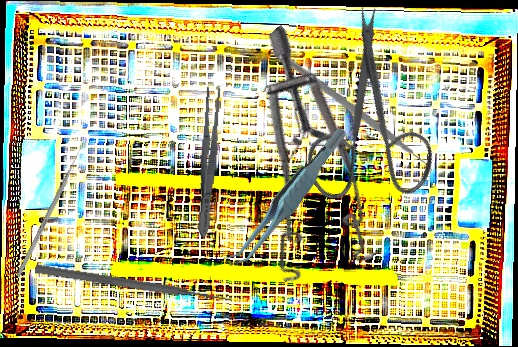Chopper: (262, 45, 442, 187)
Dressing Forceps: (193, 85, 224, 239)
Iris Scissors: (245, 0, 481, 238)
Pusher: (16, 143, 85, 278), (34, 262, 233, 307)
Speculum: (156, 24, 434, 311)
Tissue Forceps: (202, 124, 373, 273)
